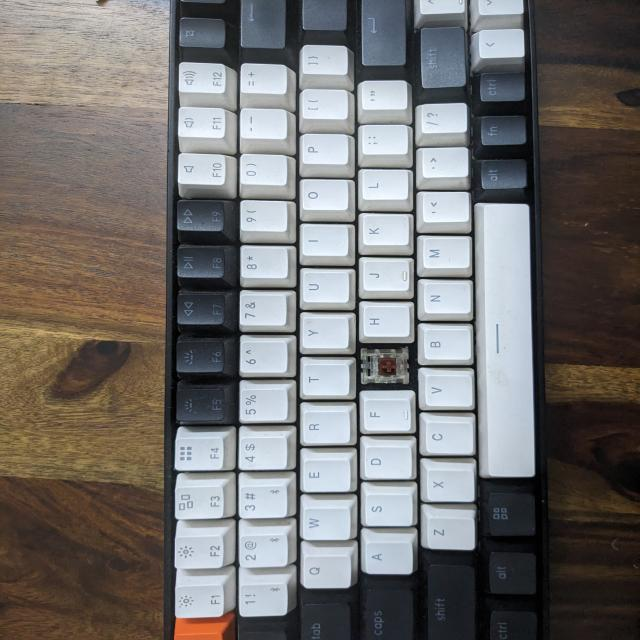C: (360, 348, 411, 393)
